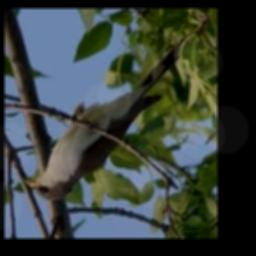Cuckoo: (23, 36, 190, 199)
